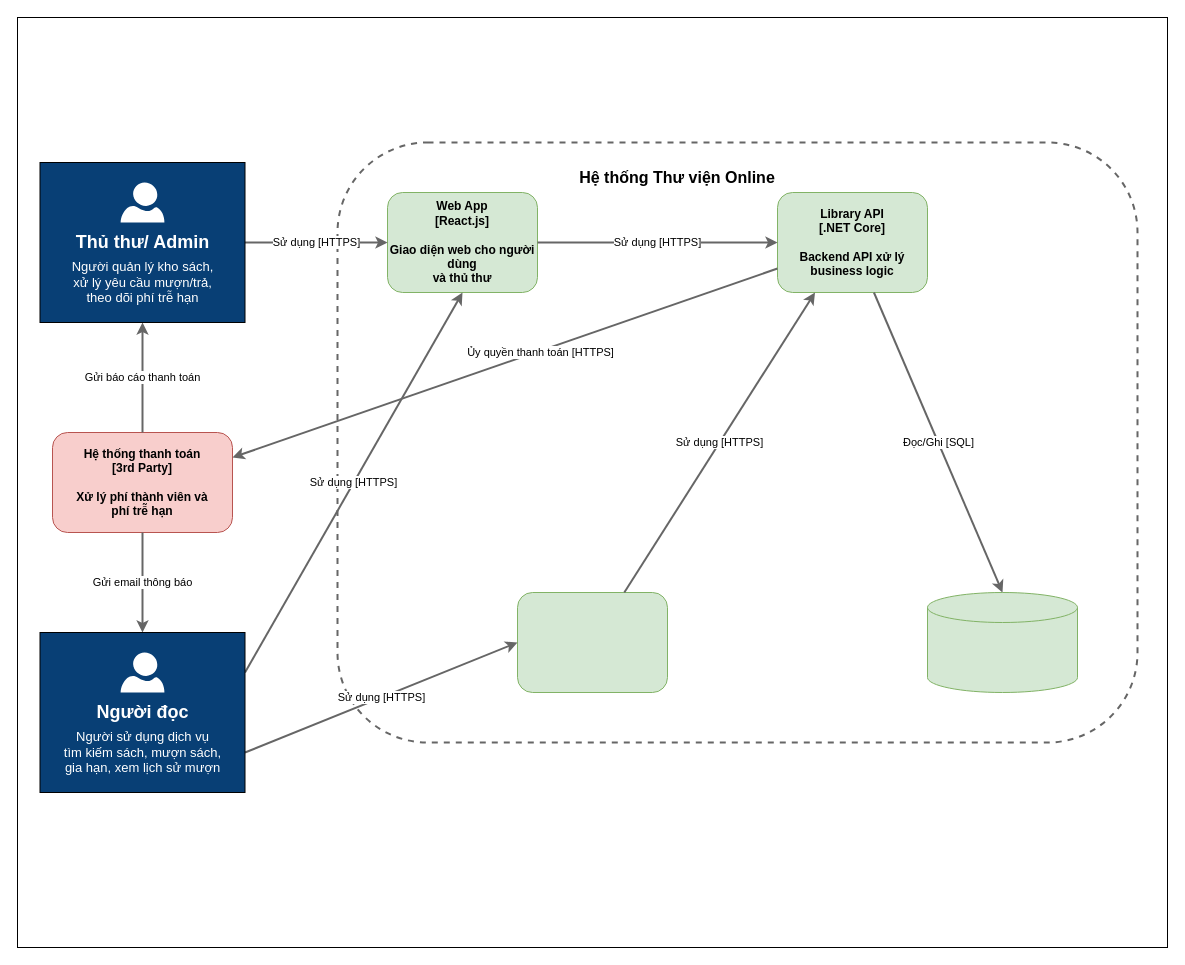
Some shapes in this 1185 by 965 pixel diagram are drawn without their labels. The box of each missing label's shape, as (x1, y1, x2, y2) in pixels:
Database [PostgreSQL] Lưu trữ dữ liệu sách, người dùng, mượn/trả: (926, 592, 1078, 692)
Mobile App [React Native] Ứng dụng di động cho người đọc: (516, 592, 668, 692)
